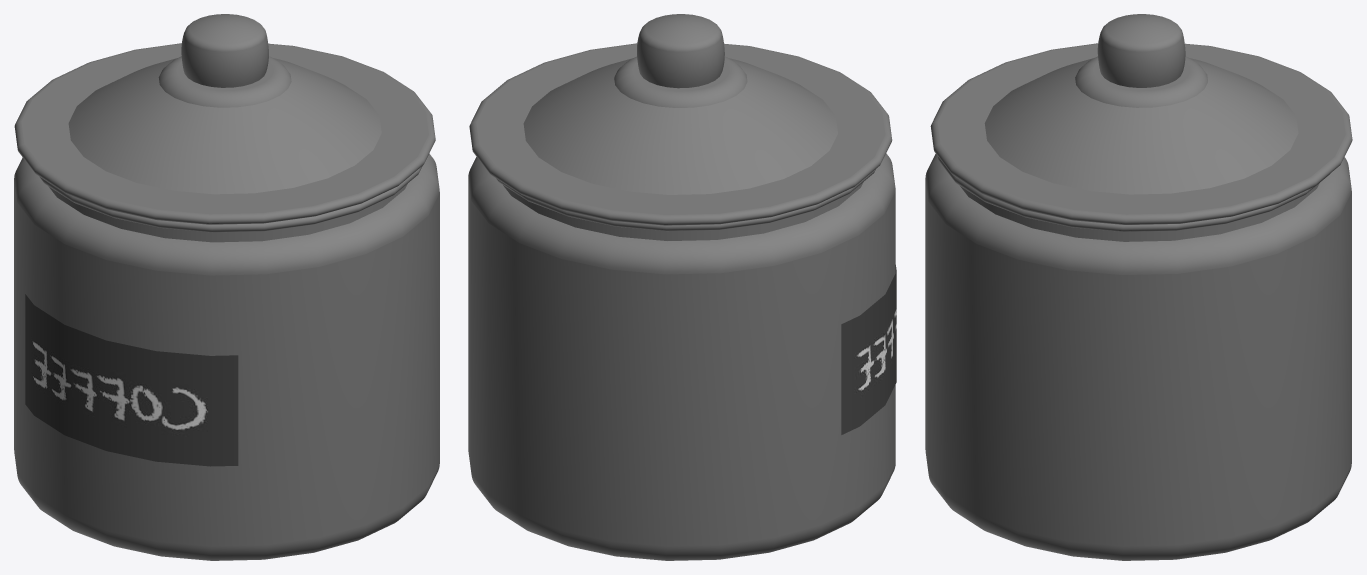
Rendered from PoteCafé.fbx.
3 renders of one model, left to right at view 1: azimuth 30°, elevation 25°; view 2: azimuth 150°, elevation 25°; view 3: azimuth 270°, elevation 25°, orthographic.
Parts seen in each view (by area): view 1: Vidro, Vidro 1, group_ 2.259; view 2: Vidro, Vidro 1, group_ 2.259; view 3: Vidro, Vidro 1.
Part boxes in pixels (box(x1,y1,x2,y2)): Vidro: box(14, 154, 439, 560); Vidro 1: box(14, 14, 435, 224); group_ 2.259: box(25, 294, 238, 466); Vidro: box(468, 153, 895, 560); Vidro 1: box(469, 14, 892, 225); group_ 2.259: box(841, 265, 896, 434); Vidro: box(925, 154, 1351, 560); Vidro 1: box(930, 14, 1352, 224).
Size of the model in its own units: 14.83 by 17.49 by 14.82.
Materials: 3 (2 with a texture image).
